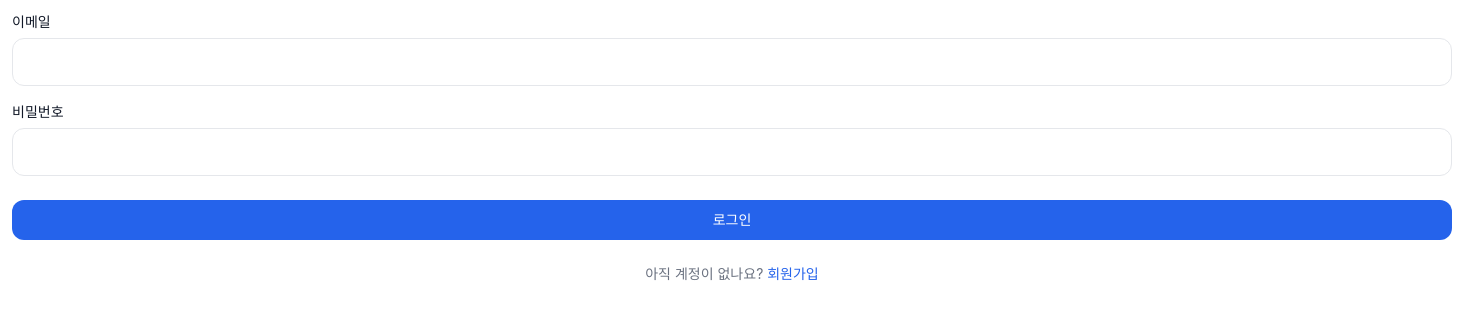
Scenario: LoginForm › 액션이 필드별 오류를 돌려주면 login_failed 이벤트를 검증 실패로 보낸다
Type "user" into the field labelled "이메일" at (732, 62), box [12,38,1452,86]
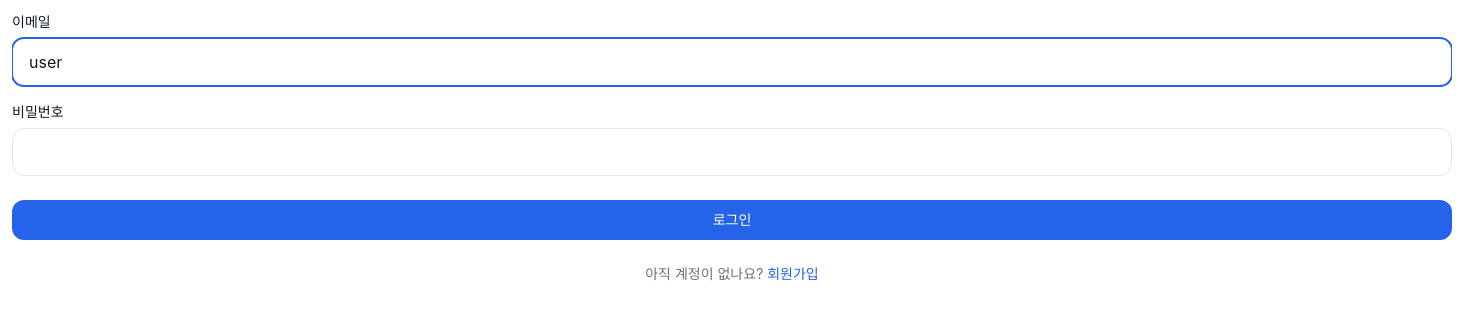
Type "password123" into the password field labelled "비밀번호" at (732, 152), box [12,128,1452,176]
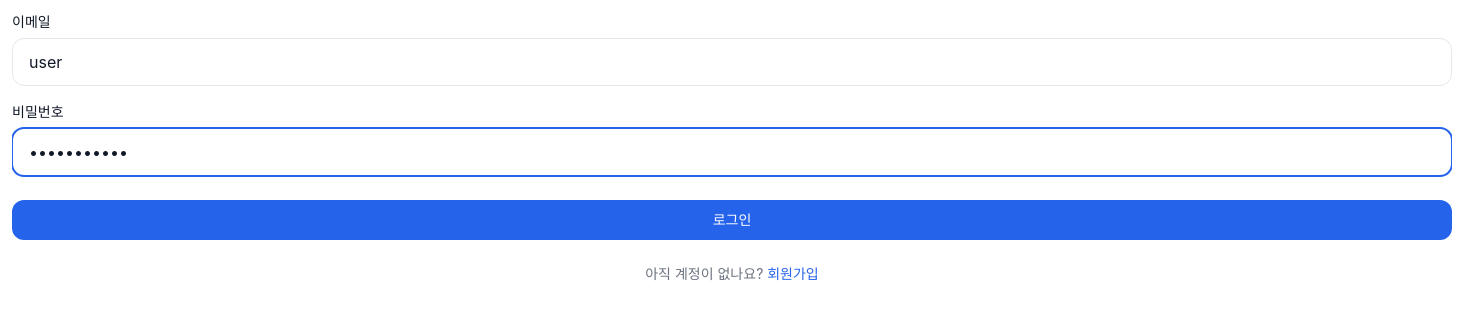
Click the button "로그인" at (732, 220), box [12,200,1452,240]
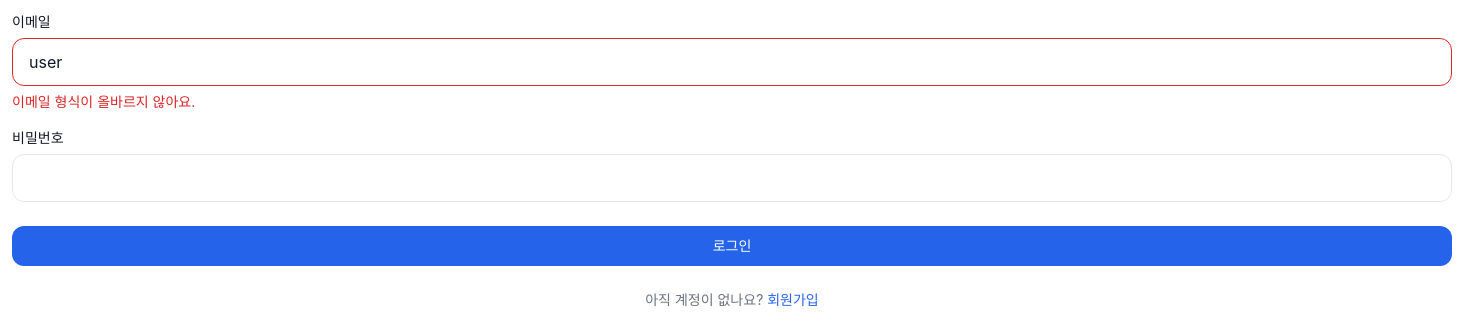
Check: the text "이메일 형식이 올바르지 않아요." is shown, box [12,93,195,110]
